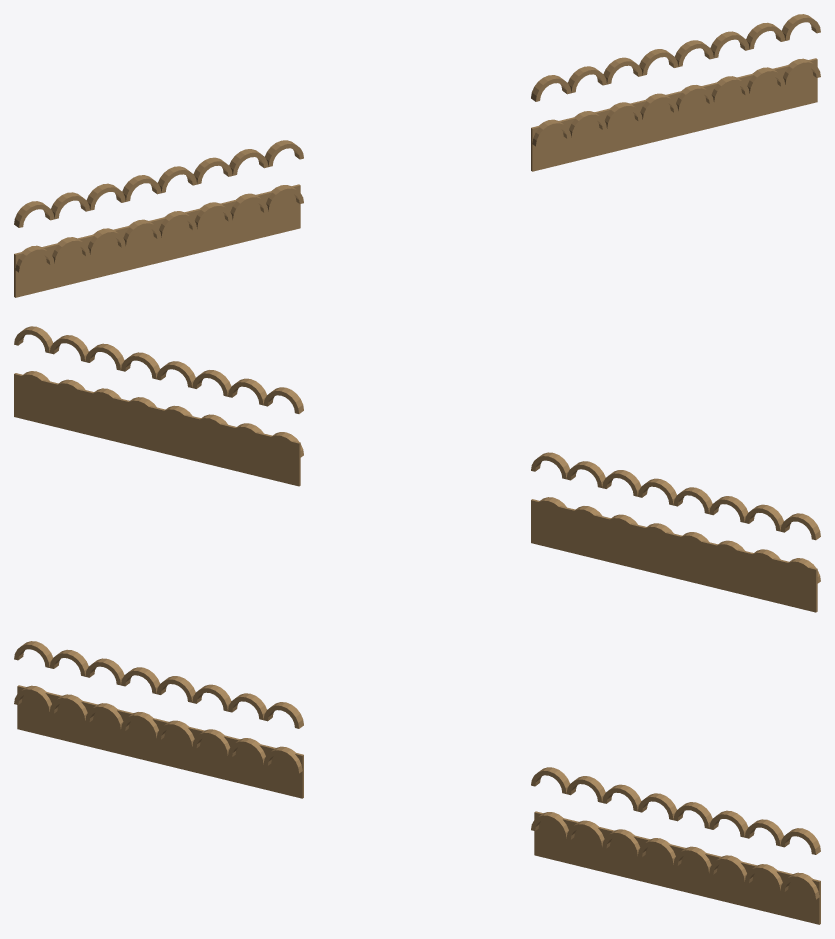
Rendered from FarArcade_WallShade.fbx.
The picture shows the model from 3 angles, top to bottom: view 1: azimuth 30°, elevation 25°; view 2: azimuth 150°, elevation 25°; view 3: azimuth 330°, elevation 25°; orthographic projection.
Visible parts, largest first — view 1: FarArch-10_35.001; view 2: FarArch-10_35.001; view 3: FarArch-10_35.001.
Part boxes in pixels (bbox=[...]): FarArch-10_35.001: bbox=[14, 14, 820, 297]; FarArch-10_35.001: bbox=[14, 326, 820, 612]; FarArch-10_35.001: bbox=[14, 641, 820, 924].
Bounding box in the file's own units: 24440 × 2648 × 260.
